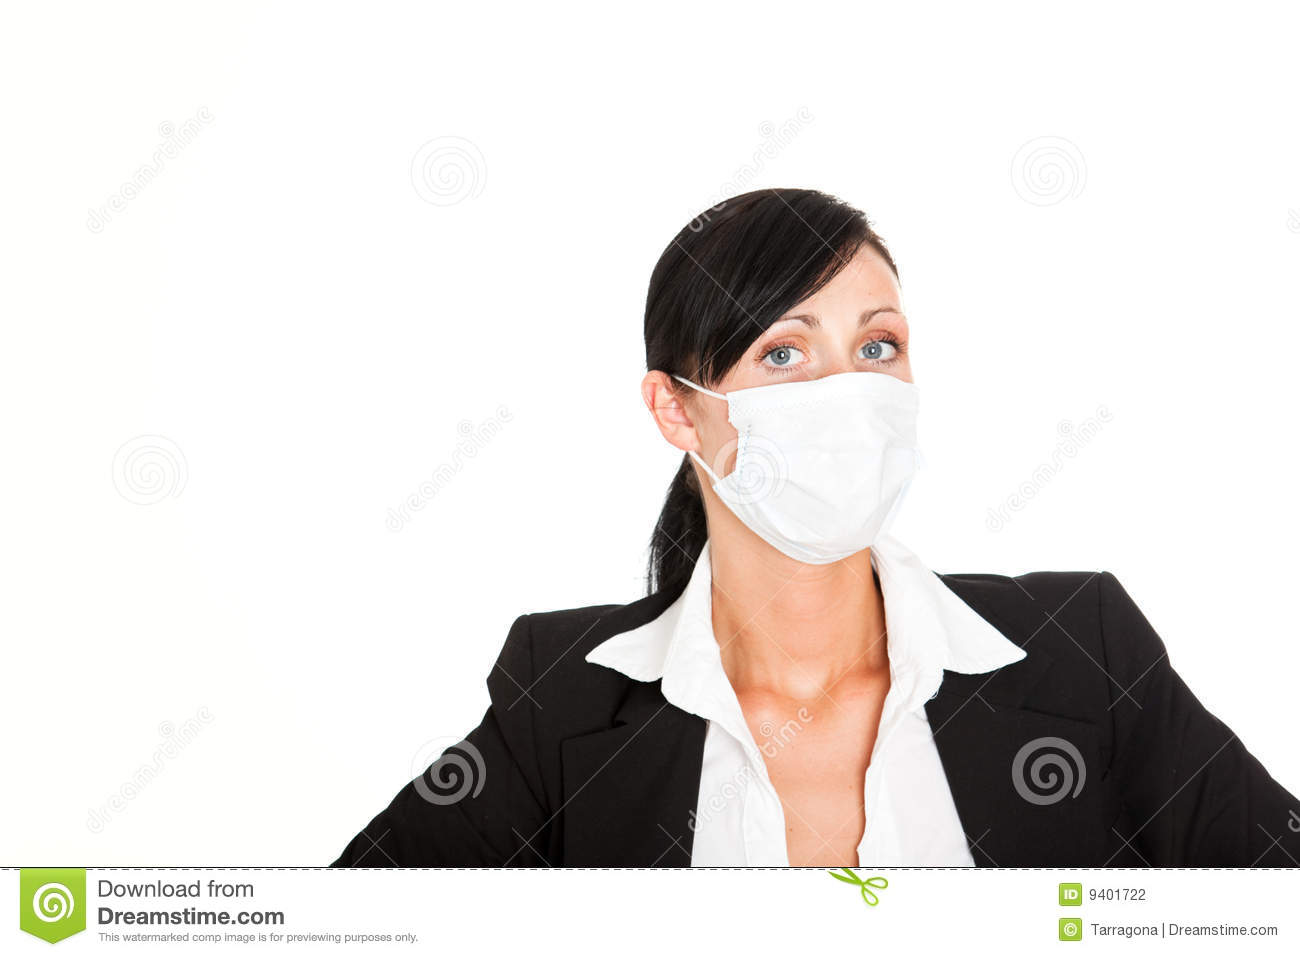mask: (716, 377, 922, 568)
